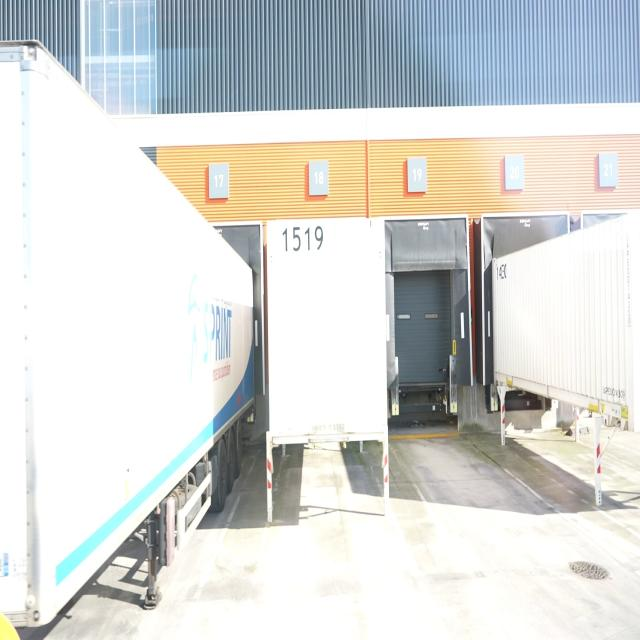Code: (278, 219, 329, 255)
